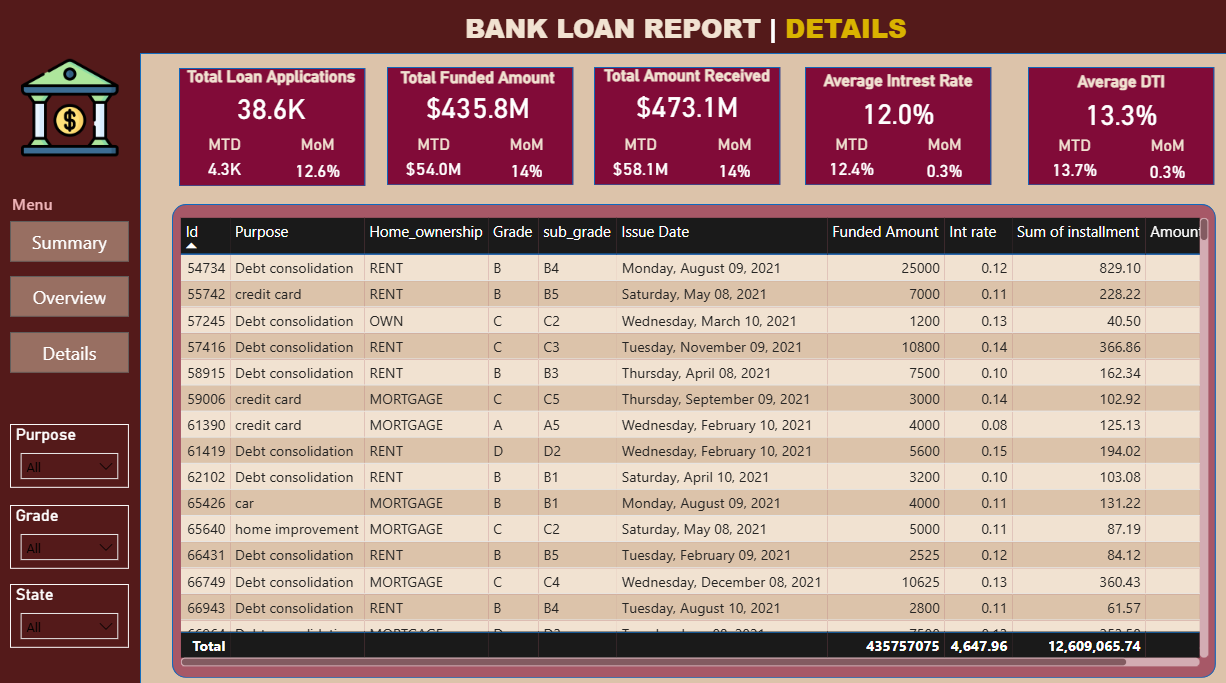

What the dashboard file says about the page in this screenshot:
{"tool":"powerbi","page":{"name":"Page 3","canvas":[1280,720],"ordinal":2},"visuals":[{"type":"group","id":"g1","title":"BG","box":[0,0,1280,719.8],"z":0},{"type":"shape","box":[0,0,1280,719.8],"z":0,"group":"g1"},{"type":"card","title":"Total Amount Received","fields":{"Values":["Measures data.Total amount received"]},"box":[618.9,72.7,192.7,61.9],"z":0,"group":"g2"},{"type":"card","title":"Total Loan Applications","fields":{"Values":["Measures data.Total loan application"]},"box":[188,73.1,192.7,64.7],"z":0,"group":"g3"},{"type":"shape","box":[404.6,73.8,192.7,122.5],"z":0,"group":"g10"},{"type":"shape","box":[836.8,73.8,192.7,122.5],"z":0,"group":"g8"},{"type":"shape","box":[1068,73.8,192.7,122.5],"z":0,"group":"g7"},{"type":"shape","box":[188.6,73.9,192.7,122.5],"z":0,"group":"g11"},{"type":"shape","box":[619.4,73.9,192.7,122.5],"z":0,"group":"g9"},{"type":"card","title":"Total Funded Amount","fields":{"Values":["Measures data.Total fund amount"]},"box":[399.8,74.6,198.2,60.6],"z":0,"group":"g4"},{"type":"card","title":"Average Intrest Rate","fields":{"Values":["Measures data.Avg intrest"]},"box":[836.8,77.9,192.7,66.1],"z":0,"group":"g5"},{"type":"card","title":"Average DTI","fields":{"Values":["Measures data.Avg DTI"]},"box":[1068.1,78.6,192.7,66.1],"z":0,"group":"g6"},{"type":"textbox","box":[450,9.2,527.1,60.6],"z":1000},{"type":"shape","box":[148.7,59.2,1131.3,660.6],"z":1000,"group":"g1"},{"type":"group","id":"g2","title":"Group 1","box":[618.9,72.7,193.2,127.8],"z":1000,"group":"g9"},{"type":"group","id":"g3","title":"Group 1","box":[188,73.1,192.7,126.4],"z":1000,"group":"g11"},{"type":"group","id":"g4","title":"Group 1","box":[399.8,74.6,198.2,125.8],"z":1000,"group":"g10"},{"type":"group","id":"g5","title":"Group 1","box":[836.8,77.9,192.7,122.5],"z":1000,"group":"g8"},{"type":"group","id":"g6","title":"Group 1","box":[1068.1,78.6,193.1,123],"z":1000,"group":"g7"},{"type":"card","title":"MoM","fields":{"Values":["Measures data.MOM loan"]},"box":[284.3,143.1,96.3,56.4],"z":1000,"group":"g3"},{"type":"card","title":"MoM","fields":{"Values":["Measures data.MoM fund amnt"]},"box":[501,144,96.3,56.4],"z":1000,"group":"g4"},{"type":"card","title":"MoM","fields":{"Values":["Measures data.MoM intrst"]},"box":[933.1,144,96.3,56.4],"z":1000,"group":"g5"},{"type":"card","title":"MoM","fields":{"Values":["Measures data.MoM received amnt"]},"box":[715.7,144.1,96.3,56.4],"z":1000,"group":"g2"},{"type":"card","title":"MoM","fields":{"Values":["Measures data.MoM TDI"]},"box":[1164.4,144.7,96.3,56.4],"z":1000,"group":"g6"},{"type":"group","id":"g7","title":"Avg DTI","box":[1068,73.8,193.2,127.9],"z":2000},{"type":"card","title":"MTD","fields":{"Values":["Measures data.MTD Loan"]},"box":[188,143.1,96.3,56.4],"z":2000,"group":"g3"},{"type":"card","title":"MTD","fields":{"Values":["Measures data.MTD Fund amnt"]},"box":[404.6,144,96.3,56.4],"z":2000,"group":"g4"},{"type":"card","title":"MTD","fields":{"Values":["Measures data.MTD avg intrest"]},"box":[836.8,144,96.3,56.4],"z":2000,"group":"g5"},{"type":"card","title":"MTD","fields":{"Values":["Measures data.MTD amnt received"]},"box":[619.4,144.1,96.3,56.4],"z":2000,"group":"g2"},{"type":"card","title":"MTD","fields":{"Values":["Measures data.MTD avg DTI"]},"box":[1068.1,144.7,96.3,56.4],"z":2000,"group":"g6"},{"type":"group","id":"g8","title":"Avg intrst","box":[836.8,73.8,192.7,126.6],"z":3000},{"type":"group","id":"g9","title":"Total R amnt","box":[618.9,72.7,193.2,127.8],"z":4000},{"type":"group","id":"g10","title":"Total F amnt","box":[399.8,73.8,198.2,126.6],"z":5000},{"type":"group","id":"g11","title":"Total app","box":[188,73.1,193.3,126.4],"z":6000},{"type":"shape","box":[181.8,214.9,1079.8,490.3],"z":7000},{"type":"tableEx","fields":{"Values":["financial_loan.id","financial_loan.purpose","financial_loan.home_ownership","financial_loan.grade","financial_loan.sub_grade","financial_loan.issue_date","Sum(financial_loan.loan_amount)","Sum(financial_loan.int_rate)","Sum(financial_loan.installment)","Sum(financial_loan.total_payment)"]},"box":[185.5,224.1,1074.3,473.8],"z":8000},{"type":"image","box":[25.7,58.8,101,113.9],"z":9000},{"type":"actionButton","title":"SUMMARY","box":[14.7,233.2,123,42.2],"z":10000},{"type":"actionButton","title":"overview","box":[14.7,290.2,123,42.2],"z":11000},{"type":"actionButton","title":"details","box":[14.7,347.1,123,42.2],"z":12000},{"type":"textbox","title":"menu","box":[0,200.2,75.3,42.2],"z":13000},{"type":"slicer","title":"Purpose","fields":{"Values":["financial_loan.purpose"]},"box":[14.7,442.6,123,66.1],"z":14000},{"type":"slicer","title":"Grade","fields":{"Values":["financial_loan.grade"]},"box":[14.7,527.1,123,66.1],"z":15000},{"type":"slicer","title":"State","fields":{"Values":["financial_loan.address_state"]},"box":[14.7,607.9,123,66.1],"z":16000}]}

Visuals, with their boxes in screenshot pixels (x1, y1, x2, y2), scaled from the page's 1280x720 canvas onto the 1226x683 screenshot:
"BG" group: l=0, t=0, r=1225, b=682
shape: l=0, t=0, r=1225, b=682
"Total Amount Received" card: l=593, t=69, r=777, b=128
"Total Loan Applications" card: l=180, t=69, r=365, b=131
shape: l=388, t=70, r=572, b=186
shape: l=801, t=70, r=986, b=186
shape: l=1023, t=70, r=1208, b=186
shape: l=181, t=70, r=365, b=186
shape: l=593, t=70, r=778, b=186
"Total Funded Amount" card: l=383, t=71, r=573, b=128
"Average Intrest Rate" card: l=801, t=74, r=986, b=137
"Average DTI" card: l=1023, t=75, r=1208, b=137
textbox: l=431, t=9, r=936, b=66
shape: l=142, t=56, r=1225, b=682
"Group 1" group: l=593, t=69, r=778, b=190
"Group 1" group: l=180, t=69, r=365, b=189
"Group 1" group: l=383, t=71, r=573, b=190
"Group 1" group: l=801, t=74, r=986, b=190
"Group 1" group: l=1023, t=75, r=1208, b=191
"MoM" card: l=272, t=136, r=365, b=189
"MoM" card: l=480, t=137, r=572, b=190
"MoM" card: l=894, t=137, r=986, b=190
"MoM" card: l=686, t=137, r=778, b=190
"MoM" card: l=1115, t=137, r=1208, b=191
"Avg DTI" group: l=1023, t=70, r=1208, b=191
"MTD" card: l=180, t=136, r=272, b=189
"MTD" card: l=388, t=137, r=480, b=190
"MTD" card: l=801, t=137, r=894, b=190
"MTD" card: l=593, t=137, r=686, b=190
"MTD" card: l=1023, t=137, r=1115, b=191
"Avg intrst" group: l=801, t=70, r=986, b=190
"Total R amnt" group: l=593, t=69, r=778, b=190
"Total F amnt" group: l=383, t=70, r=573, b=190
"Total app" group: l=180, t=69, r=365, b=189
shape: l=174, t=204, r=1208, b=669
tableEx - financial_loan.id x financial_loan.purpose: l=178, t=213, r=1207, b=662
image: l=25, t=56, r=121, b=164
"SUMMARY" actionButton: l=14, t=221, r=132, b=261
"overview" actionButton: l=14, t=275, r=132, b=315
"details" actionButton: l=14, t=329, r=132, b=369
"menu" textbox: l=0, t=190, r=72, b=230
"Purpose" slicer: l=14, t=420, r=132, b=483
"Grade" slicer: l=14, t=500, r=132, b=563
"State" slicer: l=14, t=577, r=132, b=639
